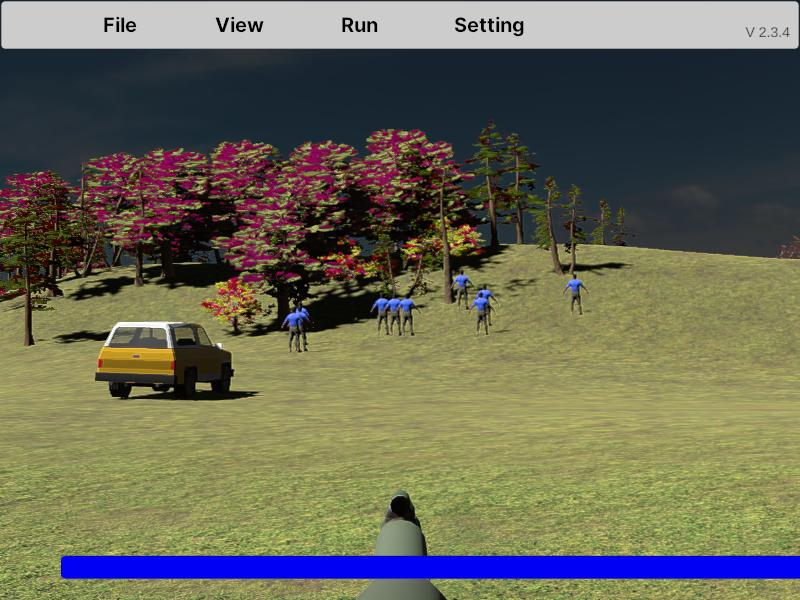Human: (470, 288, 494, 336), (563, 272, 589, 316), (282, 305, 305, 354), (398, 291, 421, 337), (370, 291, 392, 337), (293, 303, 313, 351), (452, 268, 474, 311), (384, 293, 403, 336)
car: (95, 321, 235, 400)
